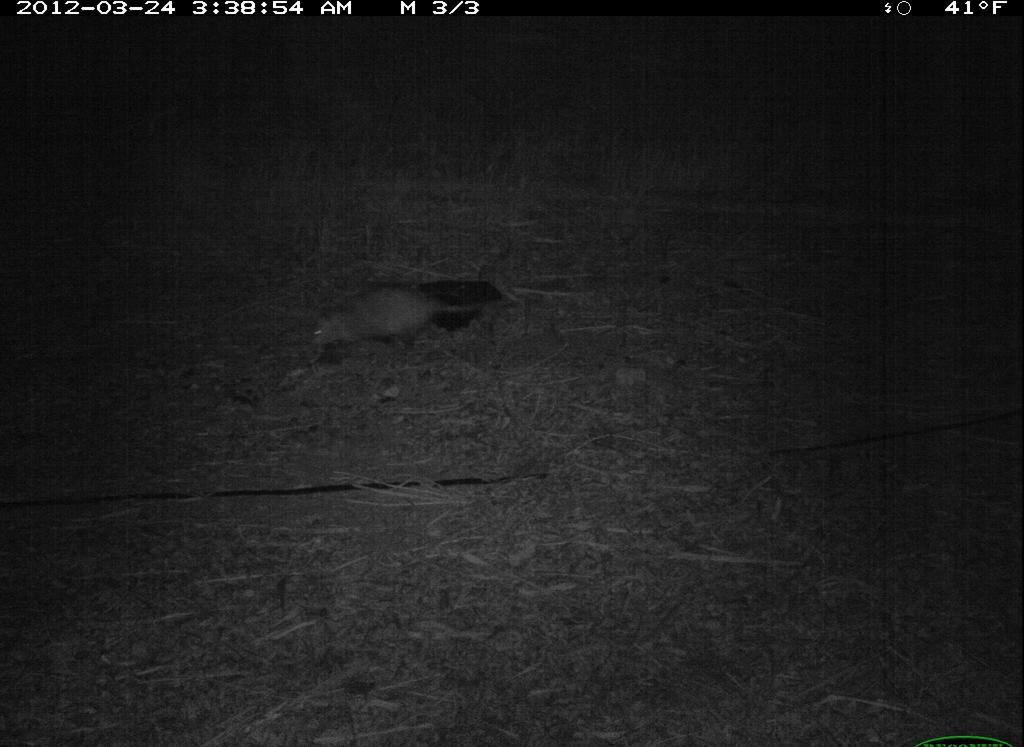opossum: (300, 281, 496, 360)
